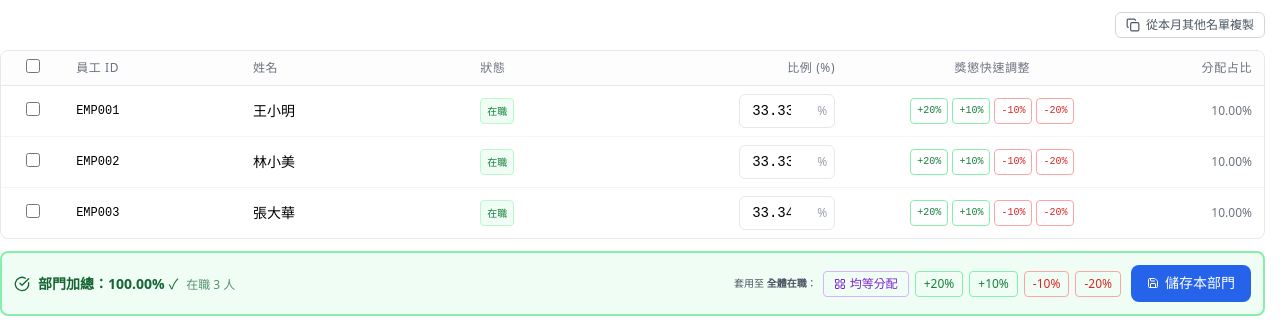
it: PersonnelRatioForm — 不連動編輯 › 加總 ≠ 100% 時 sum banner 標記 invalid 且「儲存本部門」disabled
This screenshot has width=1280, height=333.
Replace the text in the number field named "empl-ratio-EMP001" with "50": [787, 111] box [739, 94, 835, 128]
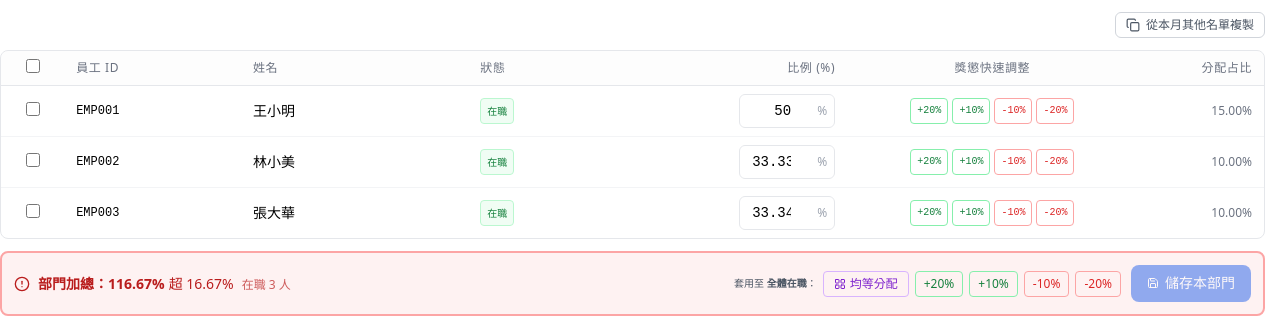
Expected: the button with test id "btn-save-dept-XTC0" is disabled, [1131, 265, 1251, 302]
